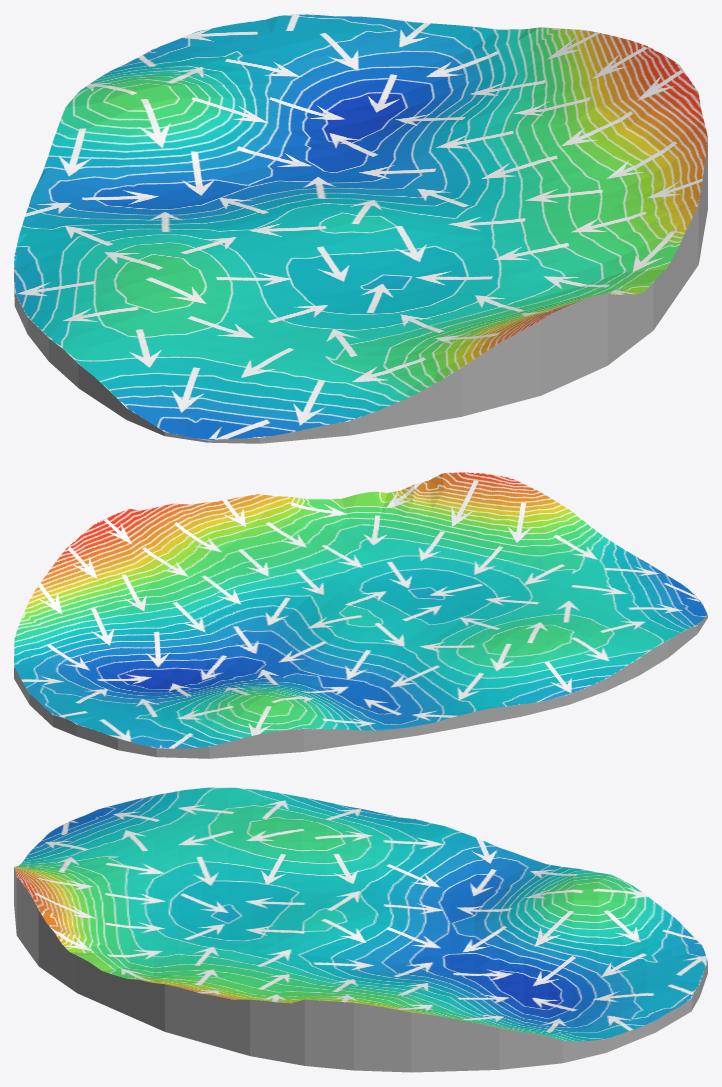
3 renders of one model, top to bottom at view 1: azimuth 30°, elevation 25°; view 2: azimuth 150°, elevation 25°; view 3: azimuth 270°, elevation 25°, orthographic. The views are drawn at different scales.
Bounding box in the file's own units: 4.52 × 0.5363 × 4.98.
Materials: 2 (1 with a texture image).
